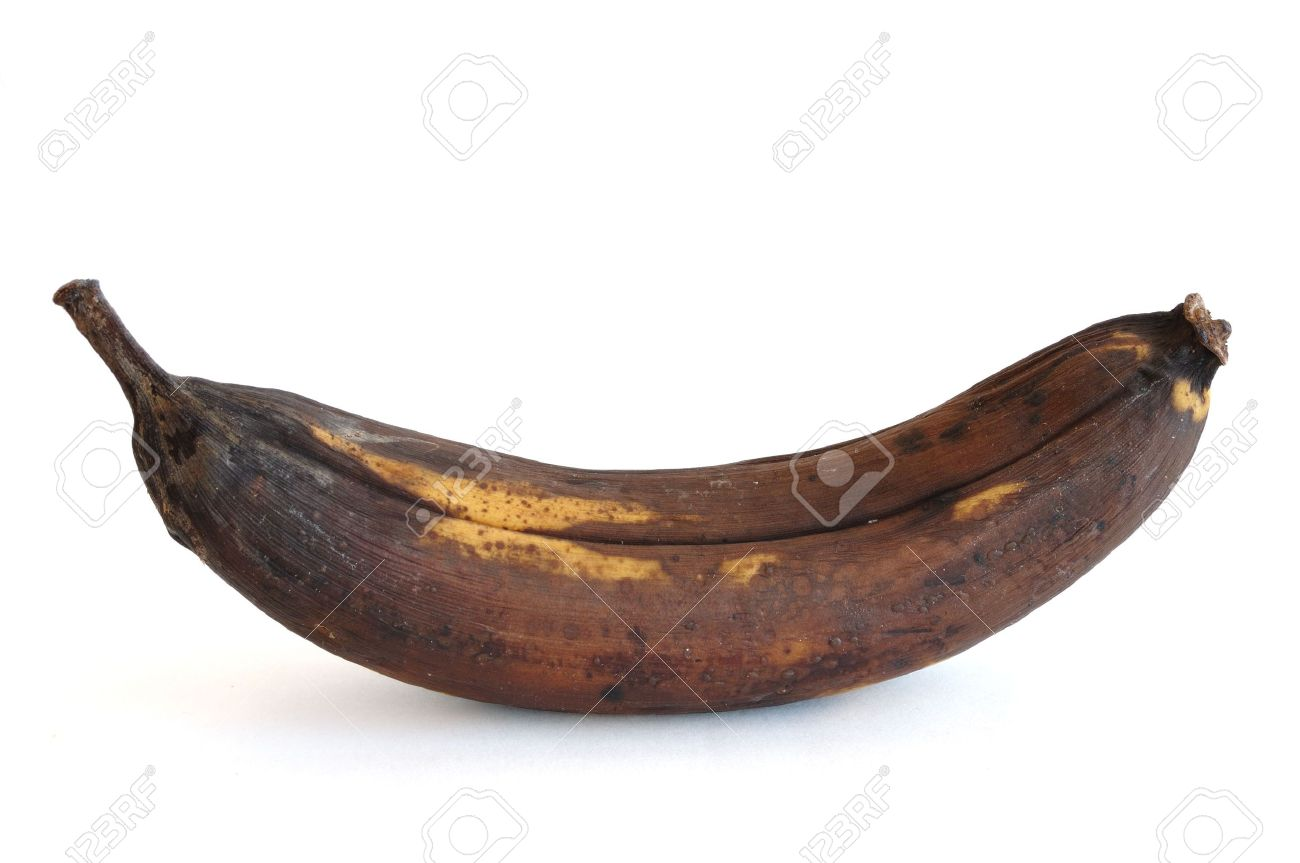damaged_banana: (79, 308, 1216, 712)
